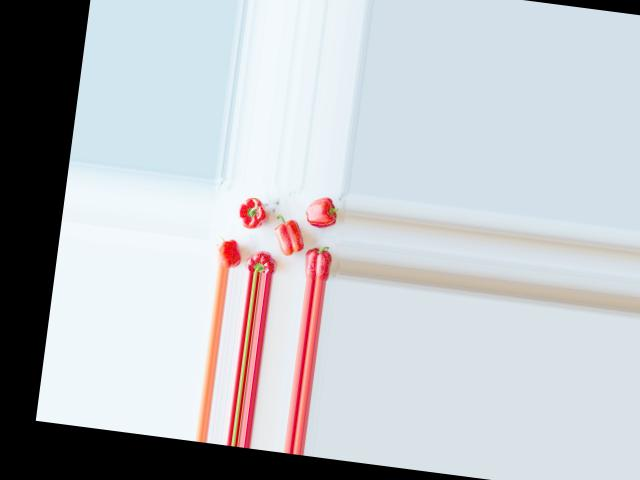bell_pepper: (245, 247, 278, 274)
